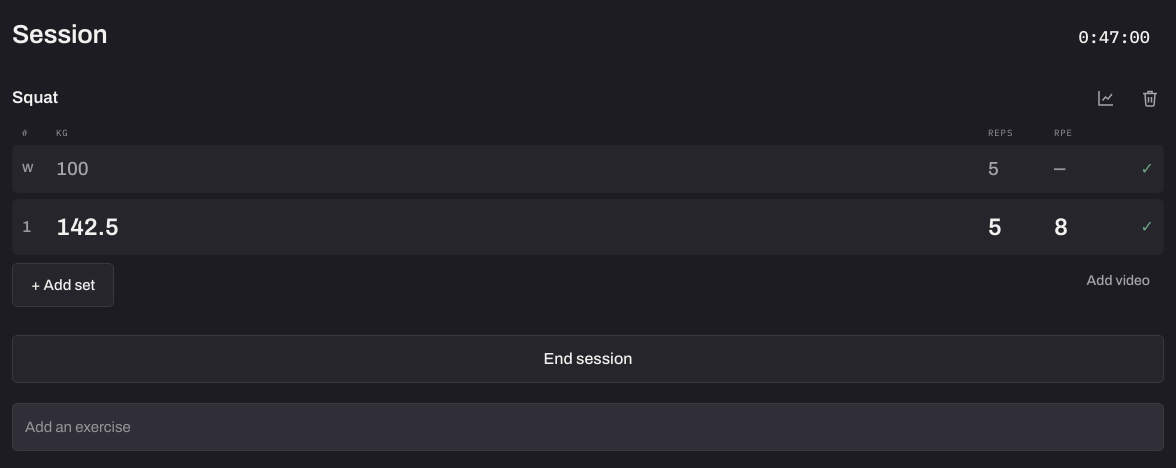
Test case: finishing › keeps the totals on the summary after the session closes
Expected: the element "Squat" is shown, [12,76,1164,307]
Click the button named "Finish session". click: (1114, 38)
box: [1065,20,1164,56]
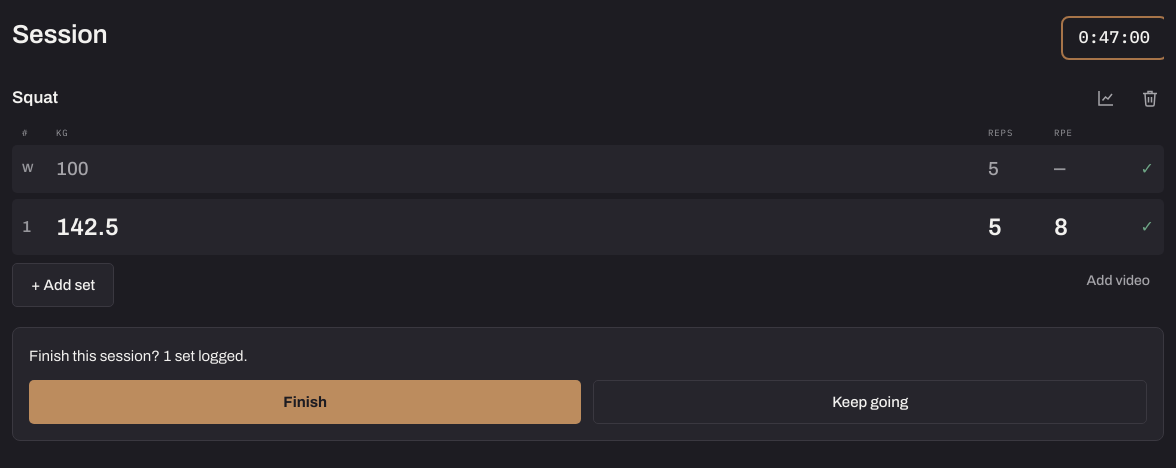
Click the button "Finish". click: (305, 402)
box: [29,380,582,424]
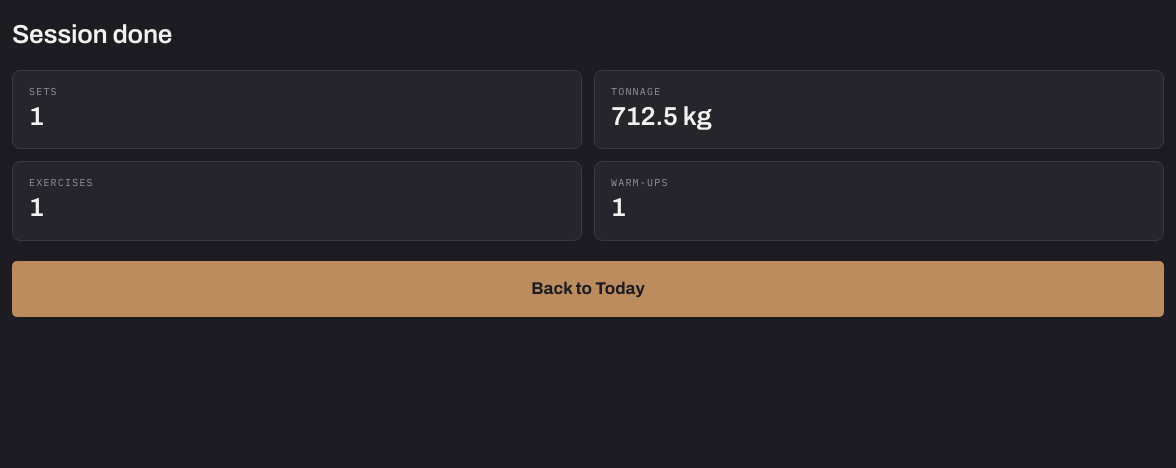
Expected: the text "1" below "Warm-ups" is shown, [611,193,626,221]
Expected: the heading "Session done" is shown, [12,20,172,48]
Expected: the text "712.5 kg" is shown, [611,102,712,130]
